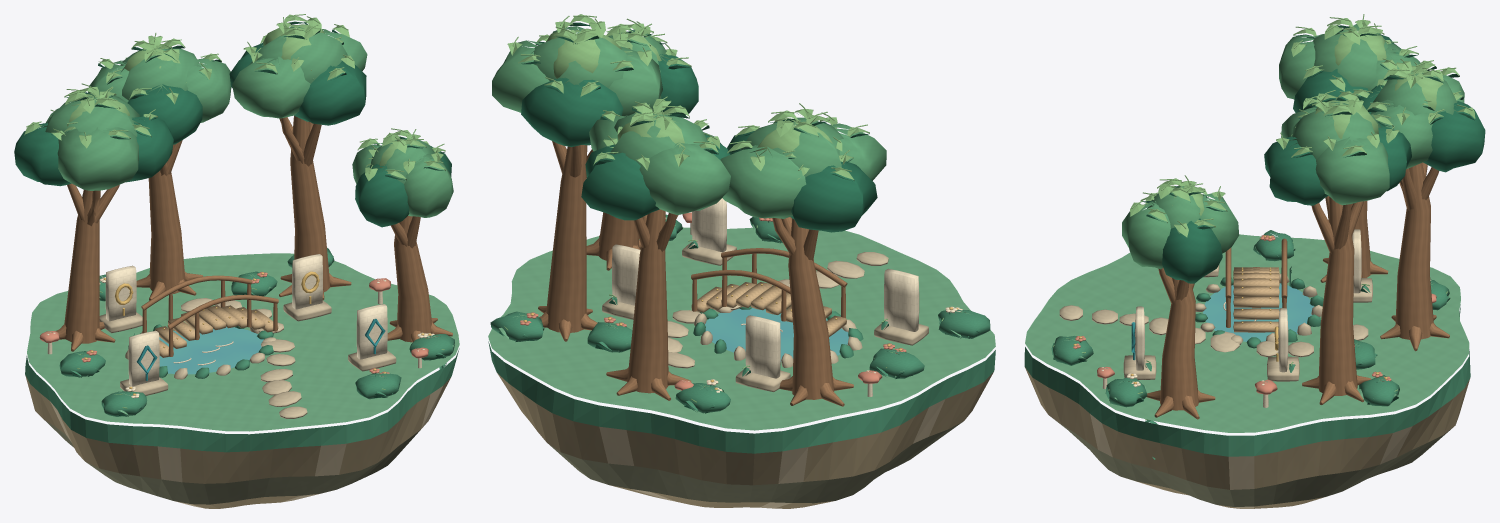
File: memory-world.glb
3 renders of one model, left to right at view 1: azimuth 30°, elevation 25°; view 2: azimuth 150°, elevation 25°; view 3: azimuth 270°, elevation 25°, orthographic. The views are drawn at different scales.
Visible parts, largest first — view 1: memory-world_Forest grass and soft moss carpet, memory-world_Forest sage leaf canopies, memory-world_Forest warm sculpted bark, memory-world_Forest deep moss roots and ground cover, memory-world_Forest deep jade leaf undersides, memory-world_Forest weathered limestone cliff, memory-world_Forest pale exposed cliff faces, memory-world_Forest sunlit lime leaf crowns, memory-world_Forest ivory memory tablets and petals, memory-world_Forest deep sediment seams, memory-world_Forest shallow turquoise pond, memory-world_Forest honey bridge planks (+2 smaller); view 2: memory-world_Forest grass and soft moss carpet, memory-world_Forest warm sculpted bark, memory-world_Forest sage leaf canopies, memory-world_Forest deep moss roots and ground cover, memory-world_Forest deep jade leaf undersides, memory-world_Forest weathered limestone cliff, memory-world_Forest sunlit lime leaf crowns, memory-world_Forest pale exposed cliff faces, memory-world_Forest ivory memory tablets and petals, memory-world_Forest deep sediment seams, memory-world_Forest honey bridge planks, memory-world_Forest shallow turquoise pond (+1 smaller); view 3: memory-world_Forest grass and soft moss carpet, memory-world_Forest warm sculpted bark, memory-world_Forest sage leaf canopies, memory-world_Forest deep moss roots and ground cover, memory-world_Forest deep jade leaf undersides, memory-world_Forest weathered limestone cliff, memory-world_Forest sunlit lime leaf crowns, memory-world_Forest pale exposed cliff faces, memory-world_Forest deep sediment seams, memory-world_Forest honey bridge planks, memory-world_Forest shallow turquoise pond, memory-world_Forest ivory memory tablets and petals (+1 smaller).
Boxes of the visible parts, x1,y1,x2,y2 form: memory-world_Forest grass and soft moss carpet: (27, 253, 459, 431); memory-world_Forest sage leaf canopies: (43, 24, 453, 217); memory-world_Forest warm sculpted bark: (52, 116, 452, 356); memory-world_Forest deep moss roots and ground cover: (25, 248, 459, 452); memory-world_Forest deep jade leaf undersides: (14, 21, 451, 416); memory-world_Forest weathered limestone cliff: (25, 375, 450, 508); memory-world_Forest pale exposed cliff faces: (50, 298, 442, 508); memory-world_Forest sunlit lime leaf crowns: (24, 14, 445, 408); memory-world_Forest ivory memory tablets and petals: (47, 254, 434, 398); memory-world_Forest deep sediment seams: (44, 420, 420, 504); memory-world_Forest shallow turquoise pond: (159, 327, 263, 374); memory-world_Forest honey bridge planks: (155, 305, 278, 357); memory-world_Forest grass and soft moss carpet: (488, 224, 995, 430); memory-world_Forest warm sculpted bark: (538, 141, 853, 406); memory-world_Forest sage leaf canopies: (492, 26, 886, 218); memory-world_Forest deep moss roots and ground cover: (488, 214, 995, 453); memory-world_Forest deep jade leaf undersides: (499, 22, 978, 413); memory-world_Forest weathered limestone cliff: (497, 372, 993, 508); memory-world_Forest sunlit lime leaf crowns: (504, 14, 965, 402); memory-world_Forest pale exposed cliff faces: (599, 242, 945, 508); memory-world_Forest ivory memory tablets and petals: (612, 198, 962, 396); memory-world_Forest deep sediment seams: (547, 422, 962, 503); memory-world_Forest honey bridge planks: (691, 282, 846, 336); memory-world_Forest shallow turquoise pond: (705, 308, 848, 361); memory-world_Forest grass and soft moss carpet: (1025, 234, 1469, 432); memory-world_Forest warm sculpted bark: (1146, 162, 1449, 419); memory-world_Forest sage leaf canopies: (1122, 24, 1464, 269); memory-world_Forest deep moss roots and ground cover: (1024, 230, 1470, 459); memory-world_Forest deep jade leaf undersides: (1053, 25, 1485, 404); memory-world_Forest weathered limestone cliff: (1025, 367, 1470, 508); memory-world_Forest sunlit lime leaf crowns: (1053, 14, 1475, 420); memory-world_Forest pale exposed cliff faces: (1059, 264, 1412, 508); memory-world_Forest deep sediment seams: (1053, 418, 1453, 506); memory-world_Forest honey bridge planks: (1233, 267, 1279, 332); memory-world_Forest shallow turquoise pond: (1203, 283, 1313, 341); memory-world_Forest ivory memory tablets and petals: (1101, 229, 1431, 407).
Size of the model in its own units: 4.11 by 4.19 by 3.96.
15 materials, 15 textured.
